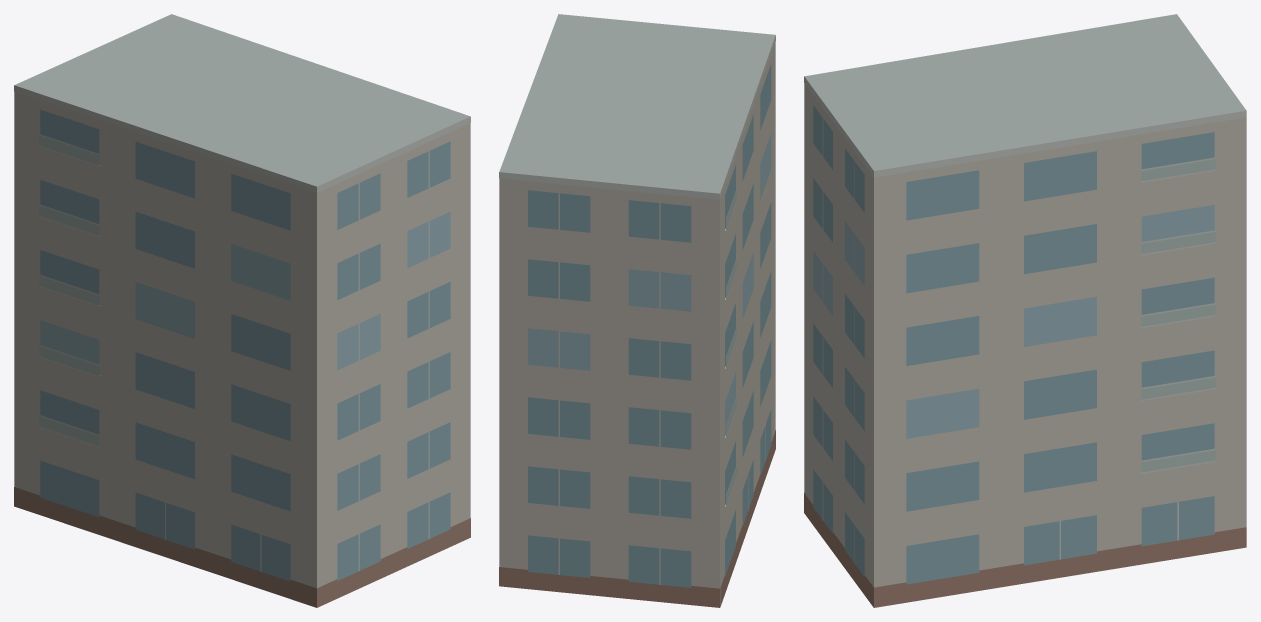
Rendered from survey-upis-32723473.glb.
3 views of the same model, side by side, from view 1: azimuth 30°, elevation 25°; view 2: azimuth 150°, elevation 25°; view 3: azimuth 270°, elevation 25° (orthographic). The views are drawn at different scales.
Visible parts, largest first — view 1: survey-upis-32723473.tmp; view 2: survey-upis-32723473.tmp; view 3: survey-upis-32723473.tmp.
Part boxes in pixels (<box>): survey-upis-32723473.tmp: <box>14,14,470,607</box>; survey-upis-32723473.tmp: <box>499,14,775,607</box>; survey-upis-32723473.tmp: <box>804,14,1246,607</box>.
Size of the model in its own units: 12.43 by 16.1 by 14.79.
